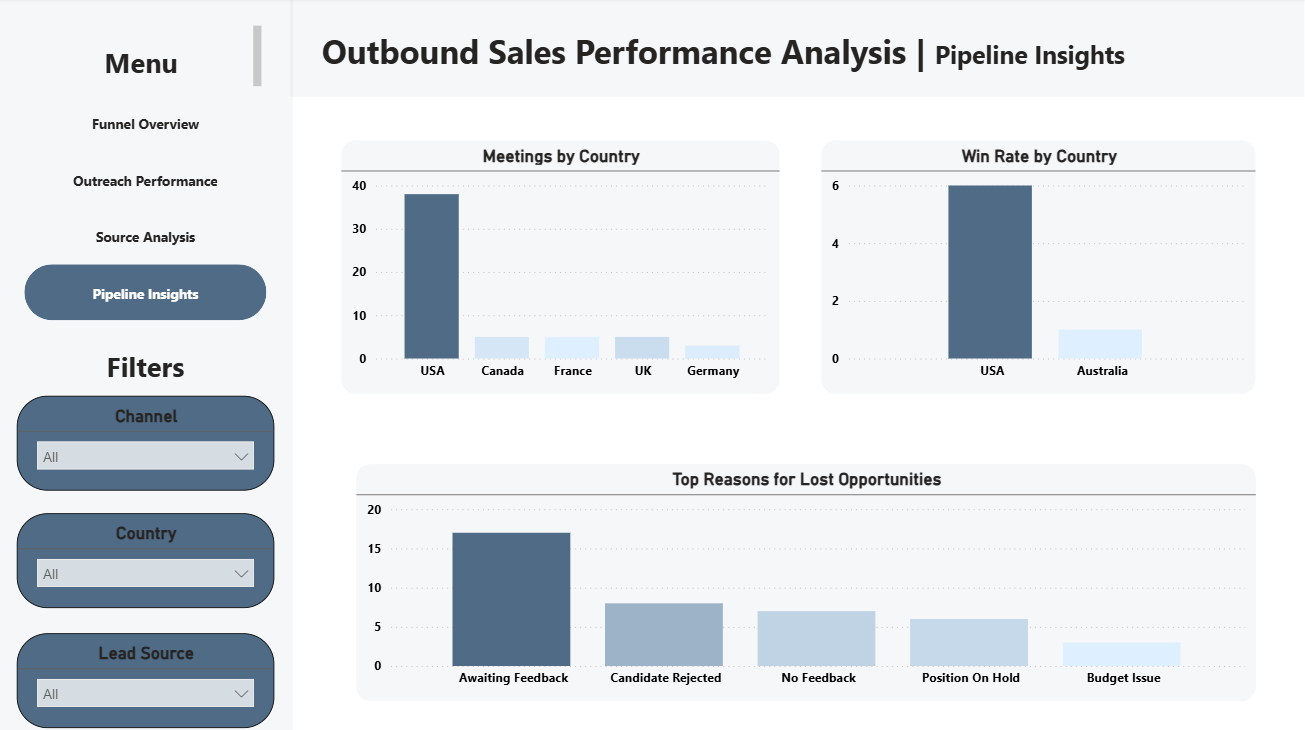

Layout of this report page (visuals, bound fields, positions):
{"tool":"powerbi","page":{"name":"Pipeline Insights","canvas":[1280,720],"ordinal":3},"visuals":[{"type":"columnChart","title":"Win Rate by Country","fields":{"Category":["outbound_sales leads_master.country"],"Y":["outbound_sales lead_funnel_status.Total Wins"]},"box":[804.6,139.4,426.8,249.5],"z":0},{"type":"columnChart","title":"Meetings by Country","fields":{"Category":["outbound_sales leads_master.country"],"Y":["outbound_sales lead_funnel_status.Total Meetings"]},"box":[335.1,139.4,430.4,249.5],"z":2000},{"type":"columnChart","title":"Top Reasons for Lost Opportunities","fields":{"Category":["outbound_sales opportunity_outcomes.outcome_reason"],"Y":["CountNonNull(outbound_sales opportunity_outcomes.opportunity_id)"]},"box":[349.7,456.1,881.7,233.6],"z":3000},{"type":"shape","box":[0,0,288.6,720.2],"z":4000},{"type":"slicer","title":"Country","fields":{"Values":["outbound_sales leads_master.country"]},"box":[18.3,505,251.9,92.9],"z":5000},{"type":"slicer","title":"Lead Source","fields":{"Values":["outbound_sales leads_master.lead_source"]},"box":[18.3,622.4,251.9,92.9],"z":6000},{"type":"slicer","title":"Channel","fields":{"Values":["outbound_sales outreach_activity.channel"]},"box":[18.3,390.1,251.9,92.9],"z":7000},{"type":"pageNavigator","box":[25.7,97.1,237.1,222.9],"z":8000},{"type":"textbox","box":[25.7,22.9,237.1,74.3],"z":9000},{"type":"textbox","box":[25.7,320,237.1,70],"z":10000},{"type":"shape","box":[286.1,0,991.7,97.8],"z":11000},{"type":"textbox","box":[311.8,8.6,944,74.6],"z":12000}]}

Visuals, with their boxes on the page's 1280x720 design canvas (x1, y1, x2, y2). These are canvas units, not pixel positions in the 1305x730 screenshot, which may show the page scaled, cropped or inside an application window:
"Win Rate by Country" columnChart: bbox=[805, 139, 1231, 389]
"Meetings by Country" columnChart: bbox=[335, 139, 766, 389]
"Top Reasons for Lost Opportunities" columnChart: bbox=[350, 456, 1231, 690]
shape: bbox=[0, 0, 289, 720]
"Country" slicer: bbox=[18, 505, 270, 598]
"Lead Source" slicer: bbox=[18, 622, 270, 715]
"Channel" slicer: bbox=[18, 390, 270, 483]
pageNavigator: bbox=[26, 97, 263, 320]
textbox: bbox=[26, 23, 263, 97]
textbox: bbox=[26, 320, 263, 390]
shape: bbox=[286, 0, 1278, 98]
textbox: bbox=[312, 9, 1256, 83]
